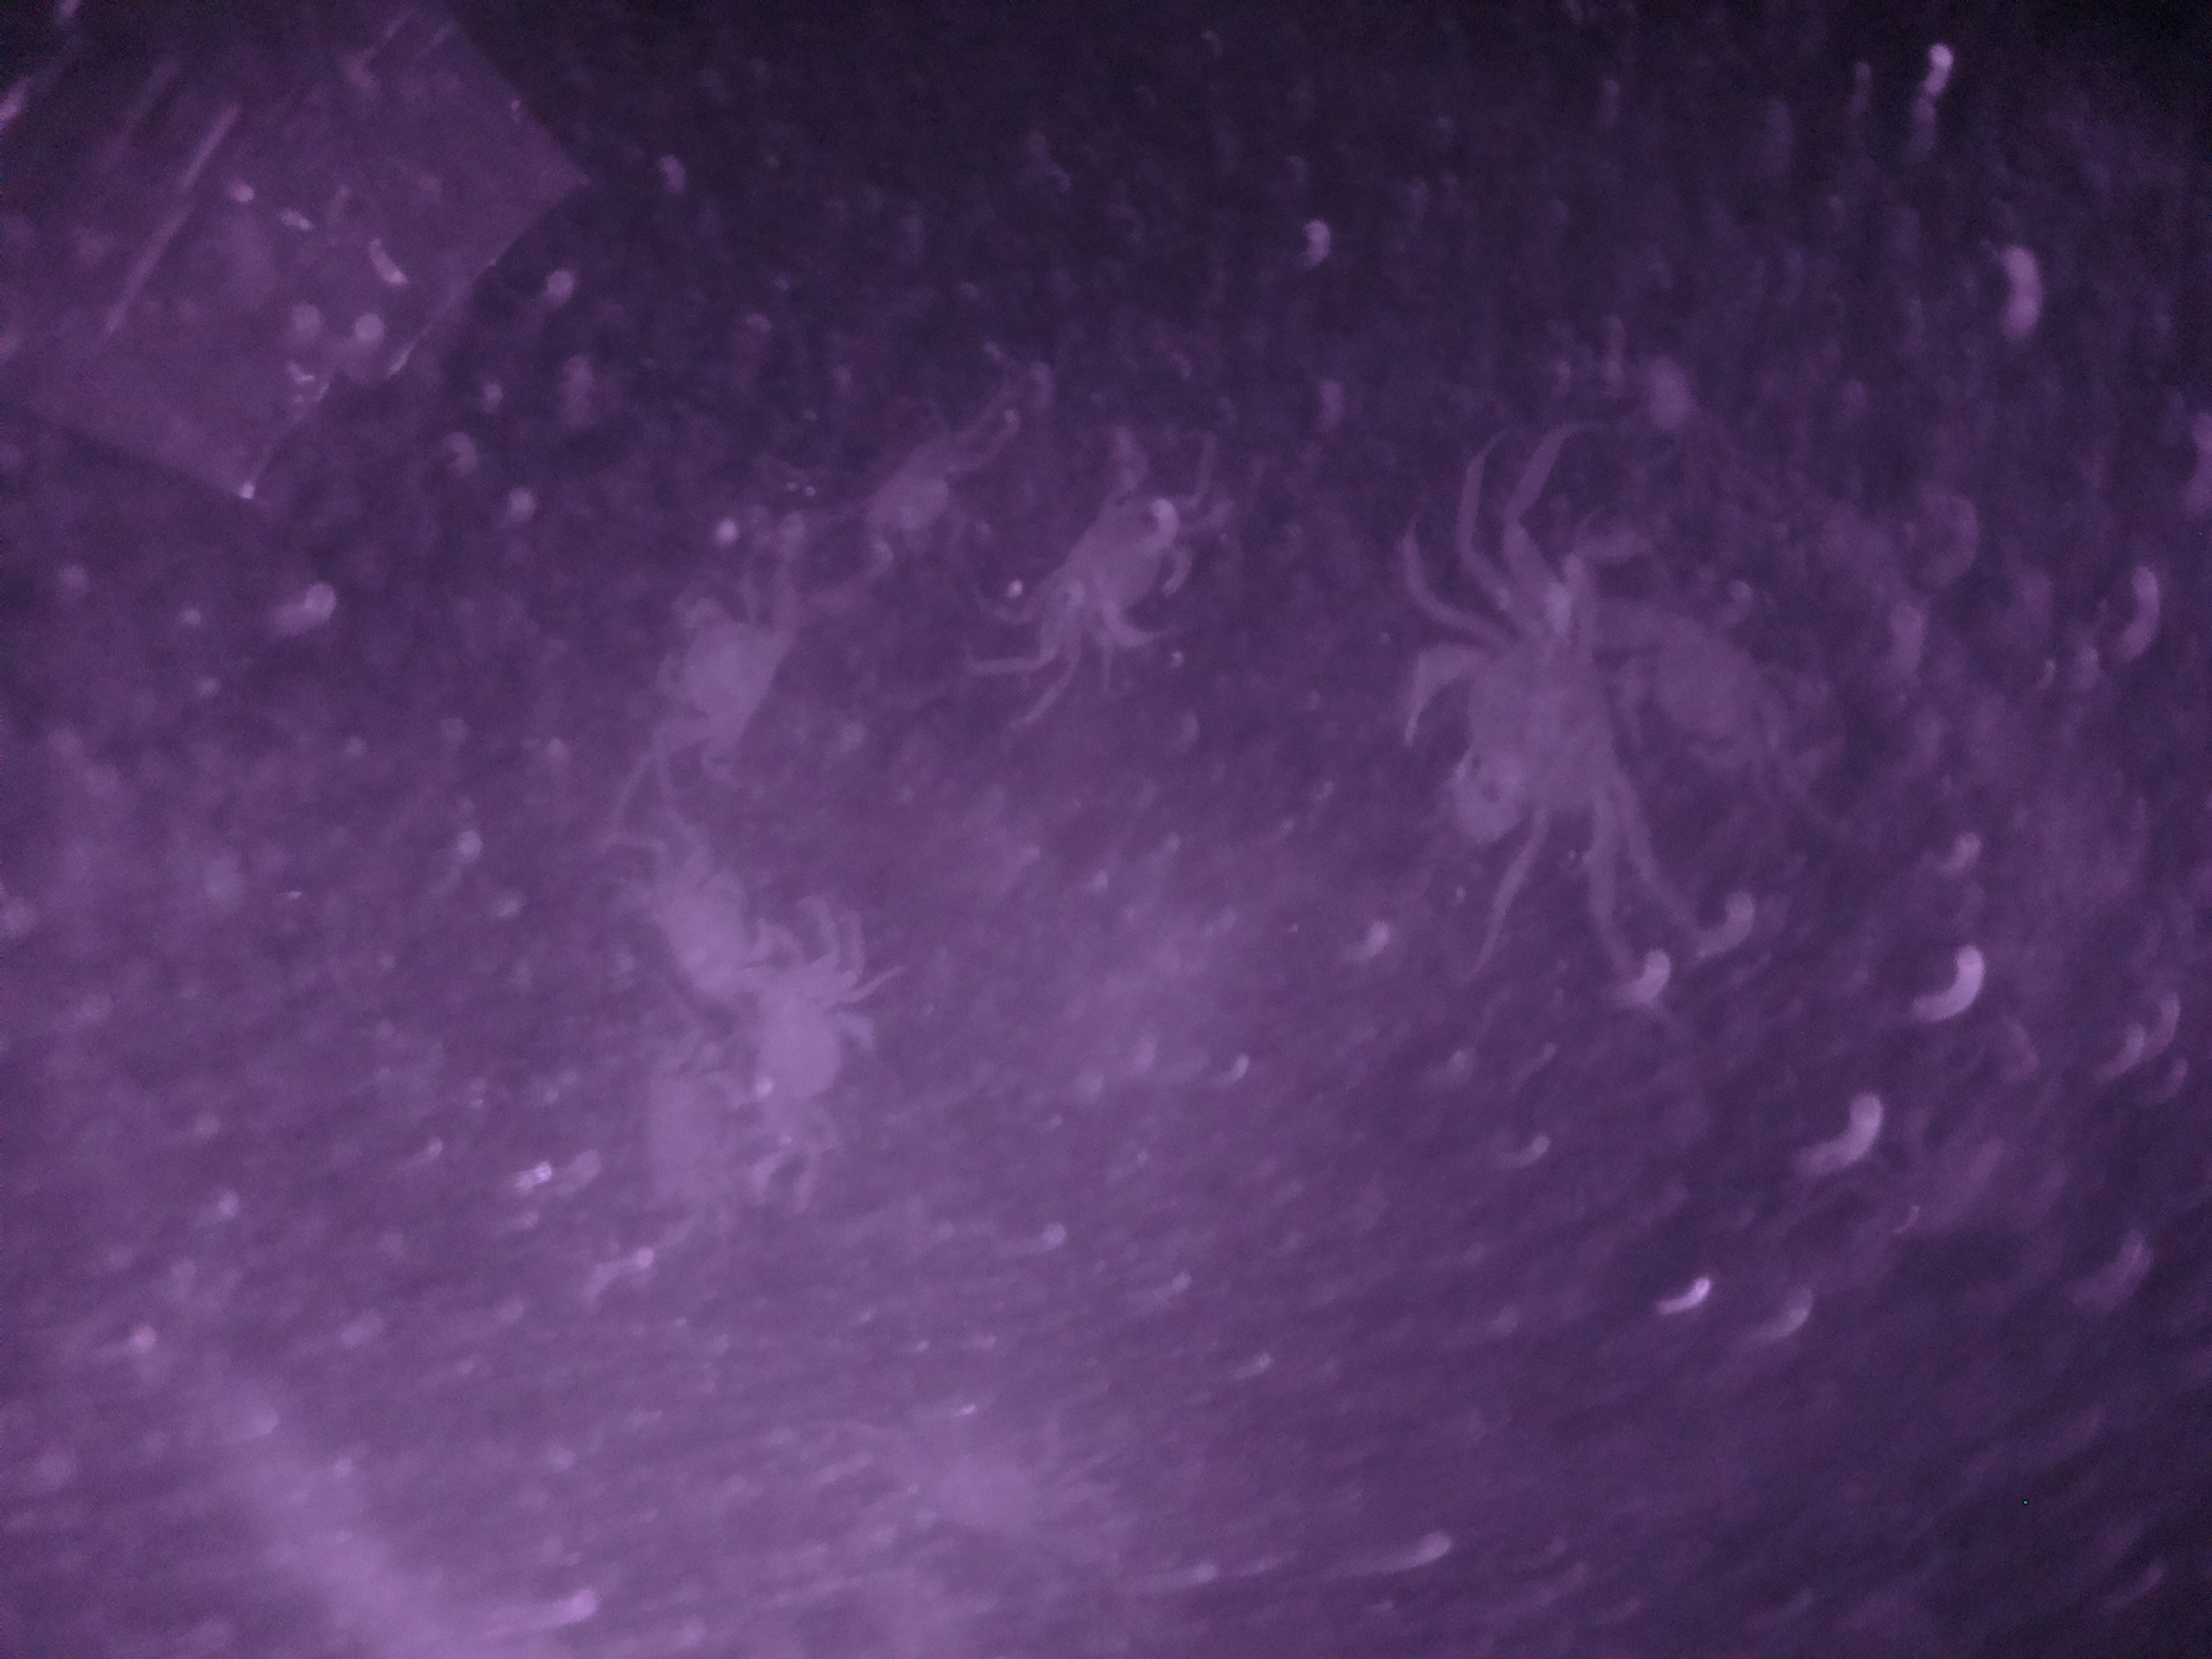Crab: (1385, 586, 1662, 866)
